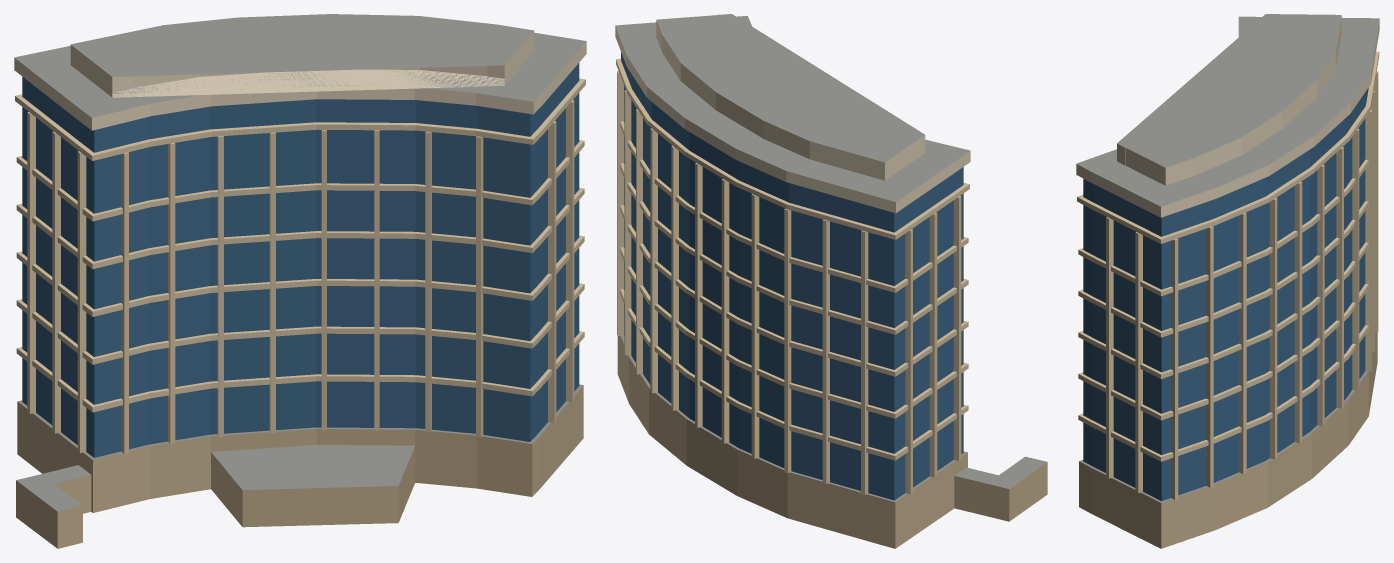
Rendered from wyndham_desert_blue_w568622622.glb.
The picture shows the model from 3 angles, left to right: view 1: azimuth 30°, elevation 25°; view 2: azimuth 150°, elevation 25°; view 3: azimuth 270°, elevation 25°; orthographic projection. The views are drawn at different scales.
Parts seen in each view (by area): view 1: Tower_w568622622; view 2: Tower_w568622622; view 3: Tower_w568622622.
Part boxes in pixels (x1,y1,x2,y2): Tower_w568622622: [14, 14, 586, 548]; Tower_w568622622: [615, 14, 1047, 548]; Tower_w568622622: [1076, 14, 1379, 548].
Bounding box in the file's own units: 101 × 78.6 × 59.85.
